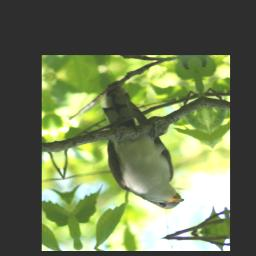Cuckoo: (90, 76, 186, 217)
